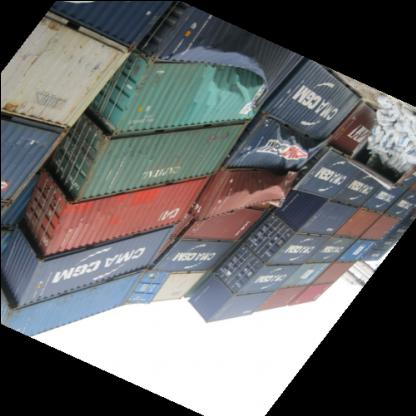Damage: (183, 39, 281, 122), (348, 125, 413, 187), (239, 127, 317, 173), (210, 174, 291, 206)
